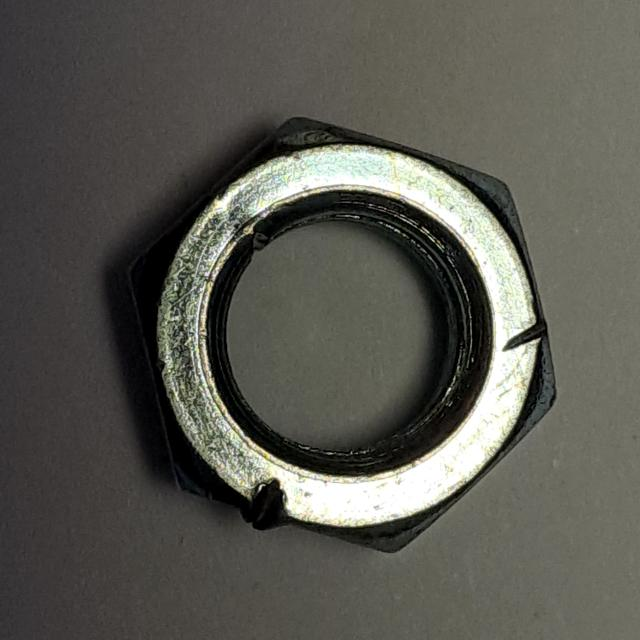Scratches: (111, 102, 569, 575)
